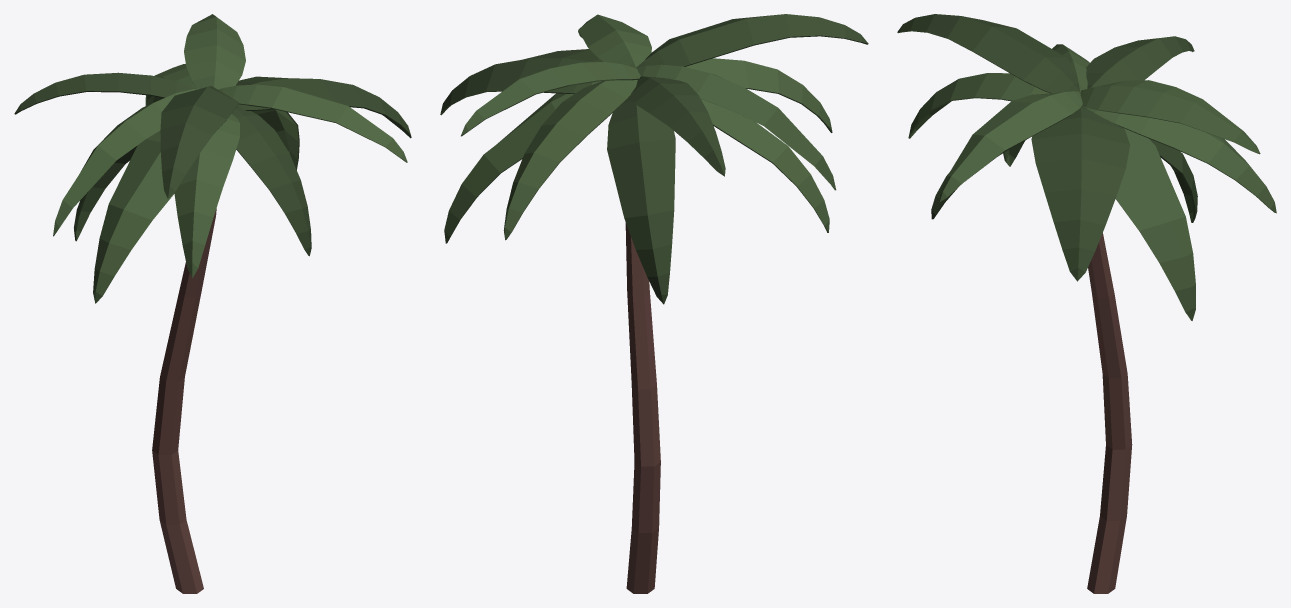
Rendered from PalmTree_3.gltf.
3 views of the same model, side by side, from view 1: azimuth 30°, elevation 25°; view 2: azimuth 150°, elevation 25°; view 3: azimuth 270°, elevation 25° (orthographic).
Visible parts, largest first — view 1: PalmTree_3; view 2: PalmTree_3; view 3: PalmTree_3.
Part boxes in pixels (<box>): PalmTree_3: <box>14,14,411,593</box>; PalmTree_3: <box>440,14,868,593</box>; PalmTree_3: <box>897,14,1276,593</box>.
Bounding box in the file's own units: 2.88 × 3.93 × 2.51.
